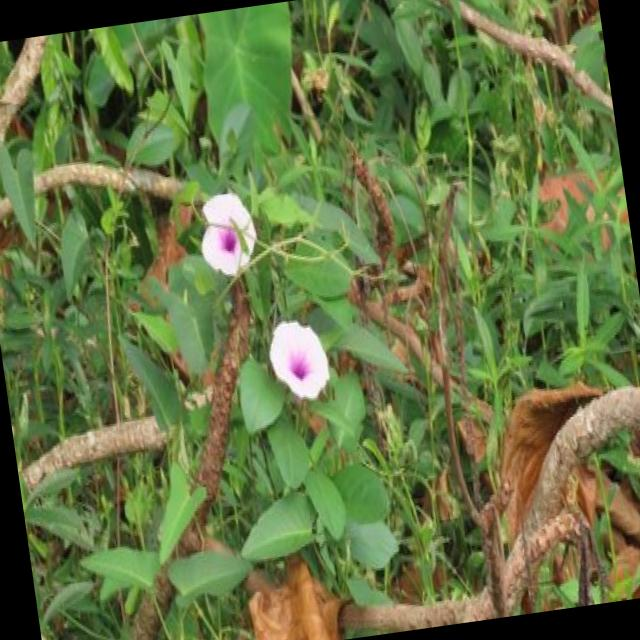ipomoea: (190, 184, 265, 286), (260, 312, 336, 411)
